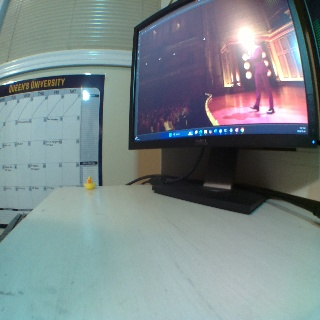duck_regular: (84, 176, 96, 191)
